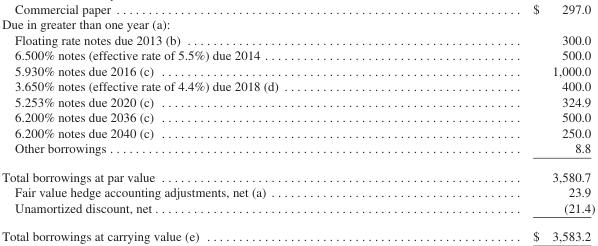table: (1, 1, 594, 243)
table column: (1, 1, 404, 243), (404, 1, 594, 243)
table projected row header: (1, 16, 594, 31)
table row: (1, 140, 594, 162), (1, 162, 594, 184), (1, 199, 594, 221), (1, 221, 594, 243), (1, 31, 594, 47), (1, 62, 594, 78), (1, 93, 594, 109), (1, 124, 594, 140), (1, 1, 594, 16), (1, 16, 594, 31), (1, 47, 594, 62), (1, 78, 594, 93), (1, 109, 594, 124), (1, 184, 594, 199)
